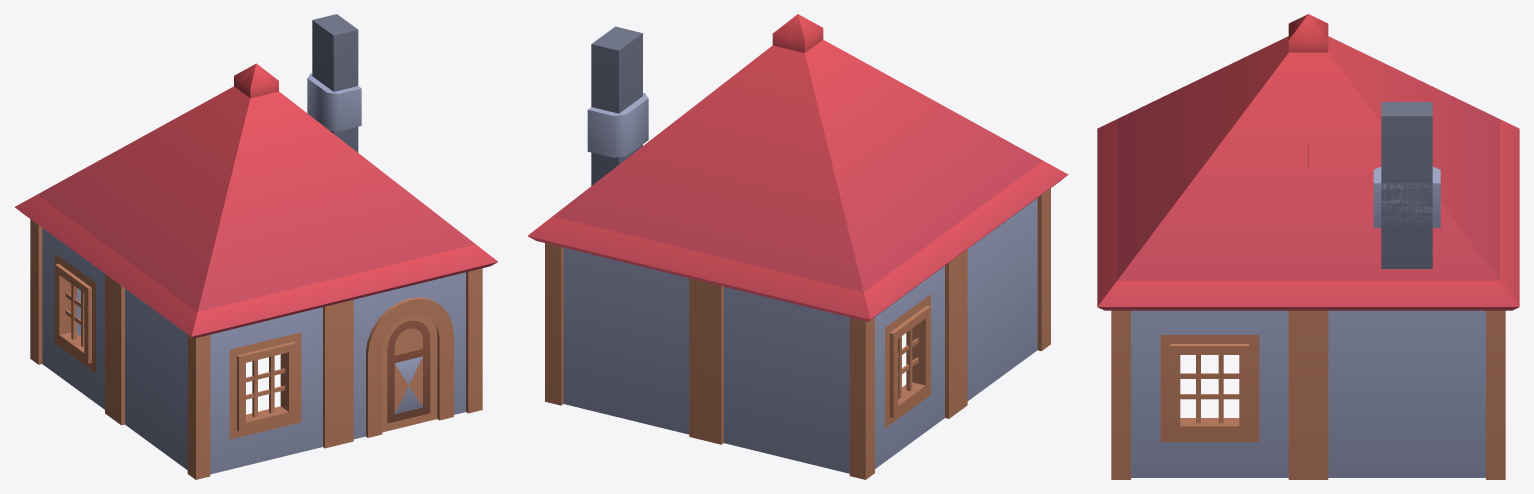
Rendered from smithy.glb.
3 views of the same model, side by side, from view 1: azimuth 30°, elevation 25°; view 2: azimuth 150°, elevation 25°; view 3: azimuth 270°, elevation 25° (orthographic). The views are drawn at different scales.
Visible parts, largest first — view 1: smithy; view 2: smithy; view 3: smithy.
Part boxes in pixels (x1,y1,x2,y2): smithy: (15,14,497,479); smithy: (528,14,1068,479); smithy: (1097,14,1519,479).
Bounding box in the file's own units: 6.42 × 6.42 × 6.42.
Materials: 13 (13 with a texture image).
